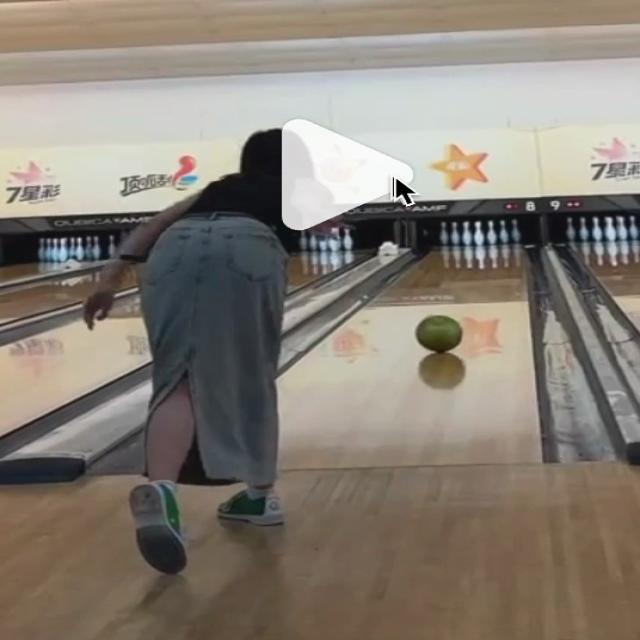alley: (279, 245, 540, 469)
balls: (416, 316, 462, 353)
bottle: (441, 219, 518, 246)
